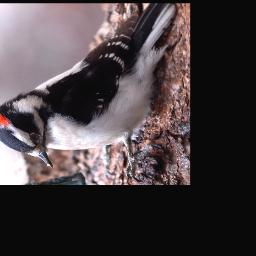Woodpecker: (0, 5, 179, 171)
